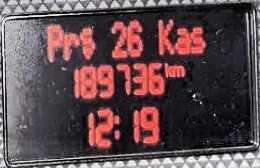1: (86, 111, 93, 146), (132, 109, 138, 142), (73, 68, 78, 98)
2: (94, 108, 111, 146), (110, 20, 126, 56)
3: (131, 62, 146, 94)
6: (127, 20, 142, 55), (148, 62, 163, 94)
7: (114, 63, 129, 94)
8: (80, 66, 96, 98)
9: (139, 105, 157, 143), (96, 64, 112, 96)
X: (157, 18, 174, 54), (47, 24, 62, 62), (78, 26, 94, 57), (189, 25, 204, 52), (174, 26, 189, 53), (63, 33, 78, 59), (172, 64, 184, 77), (113, 114, 118, 138), (164, 62, 172, 77)
